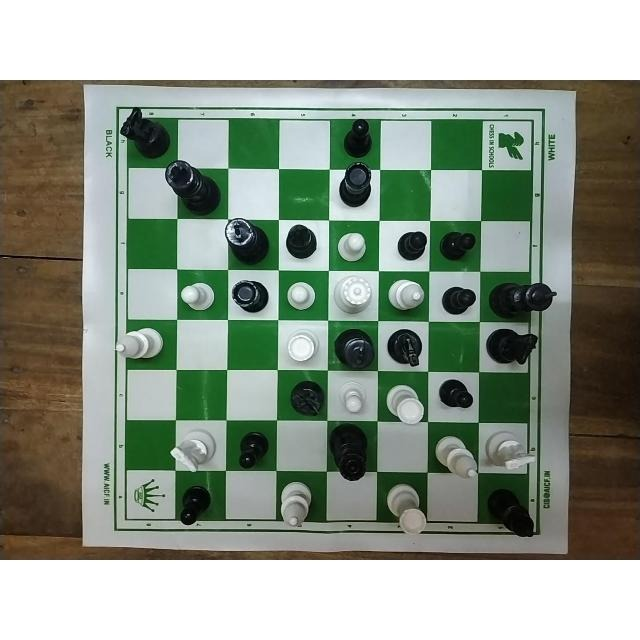black-bishop: (485, 487, 537, 537), (282, 222, 320, 260)
black-king: (159, 160, 221, 220), (487, 278, 559, 320), (222, 217, 270, 267), (332, 327, 376, 371)
black-knight: (117, 105, 171, 159), (481, 327, 539, 367), (384, 327, 428, 367), (286, 380, 326, 420)
black-pawn: (177, 484, 211, 528), (435, 376, 475, 411), (235, 430, 269, 470), (439, 228, 475, 264), (436, 284, 476, 315), (340, 119, 374, 155), (394, 229, 427, 261)
black-queen: (328, 424, 373, 481)
black-rook: (335, 162, 373, 206), (229, 275, 269, 315)
white-bishop: (106, 322, 166, 363), (432, 433, 482, 481), (278, 480, 314, 530), (387, 276, 426, 312)
white-knight: (484, 426, 538, 471), (166, 429, 221, 473)
white-pawn: (176, 277, 218, 313), (283, 279, 319, 313), (336, 380, 369, 416), (334, 231, 370, 263)
white-queen: (330, 274, 373, 316)
white-rook: (384, 481, 428, 537), (383, 380, 424, 432), (285, 328, 319, 361)
